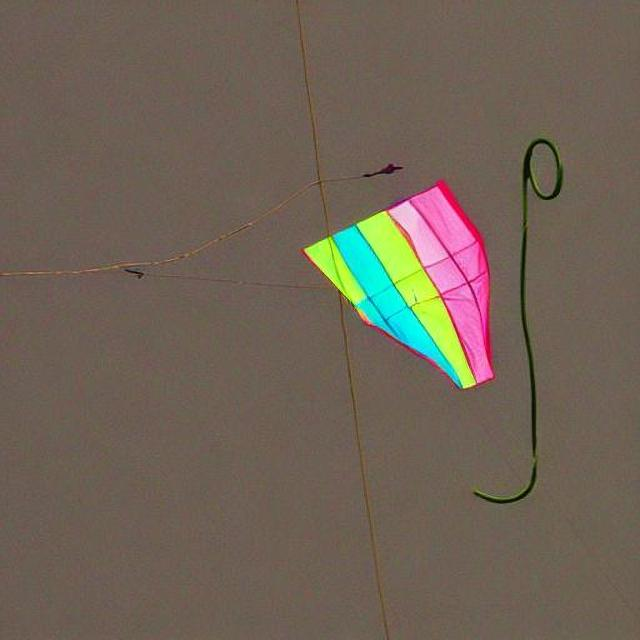floating object: (300, 176, 492, 390), (485, 123, 556, 513), (512, 134, 560, 398), (521, 135, 564, 198)
